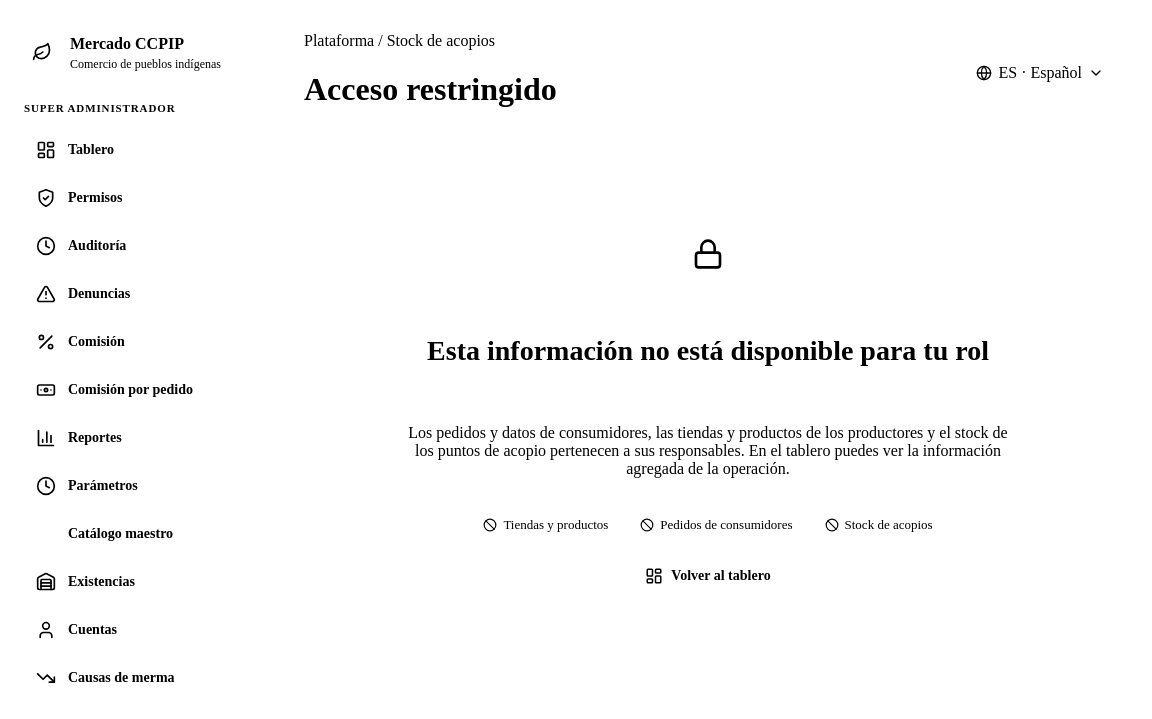
Test: SA-08 Acceso restringido (CCPIP-111) › vuelve al tablero
Click the link "Volver al tablero" at (708, 576), box [645,567,771,585]
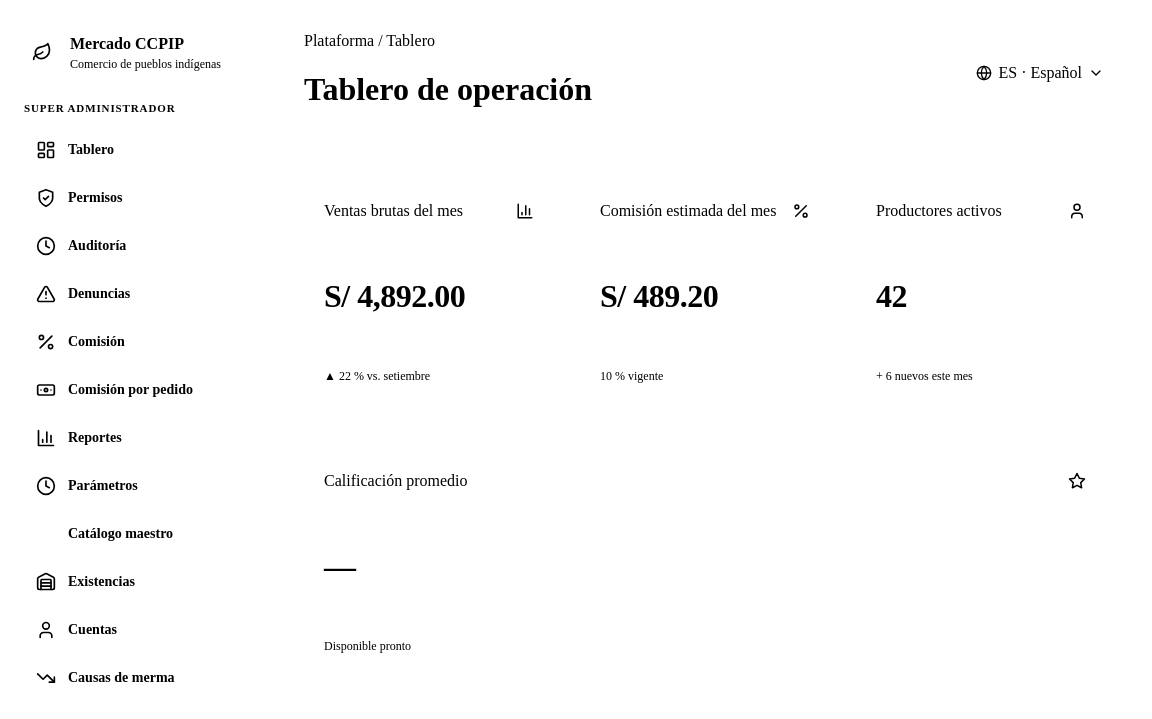
expect the heading "Tablero de operación" is shown: met, box [304,71,592,107]
